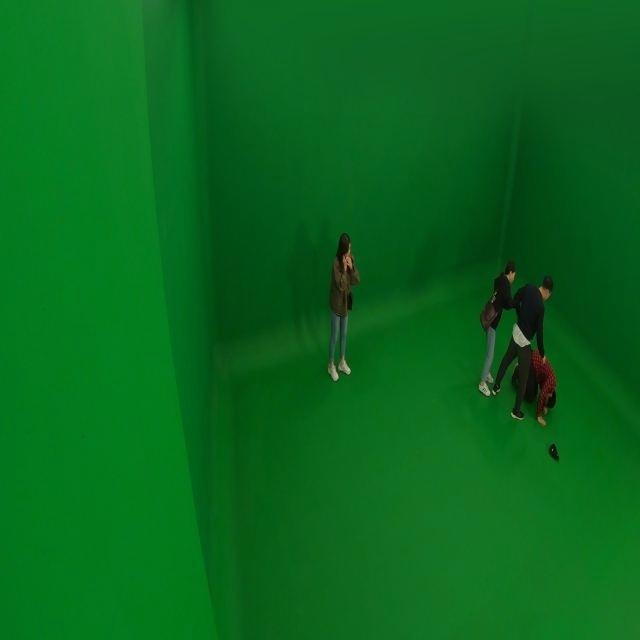fight: (476, 262, 557, 425)
non-fight: (322, 231, 359, 383)
